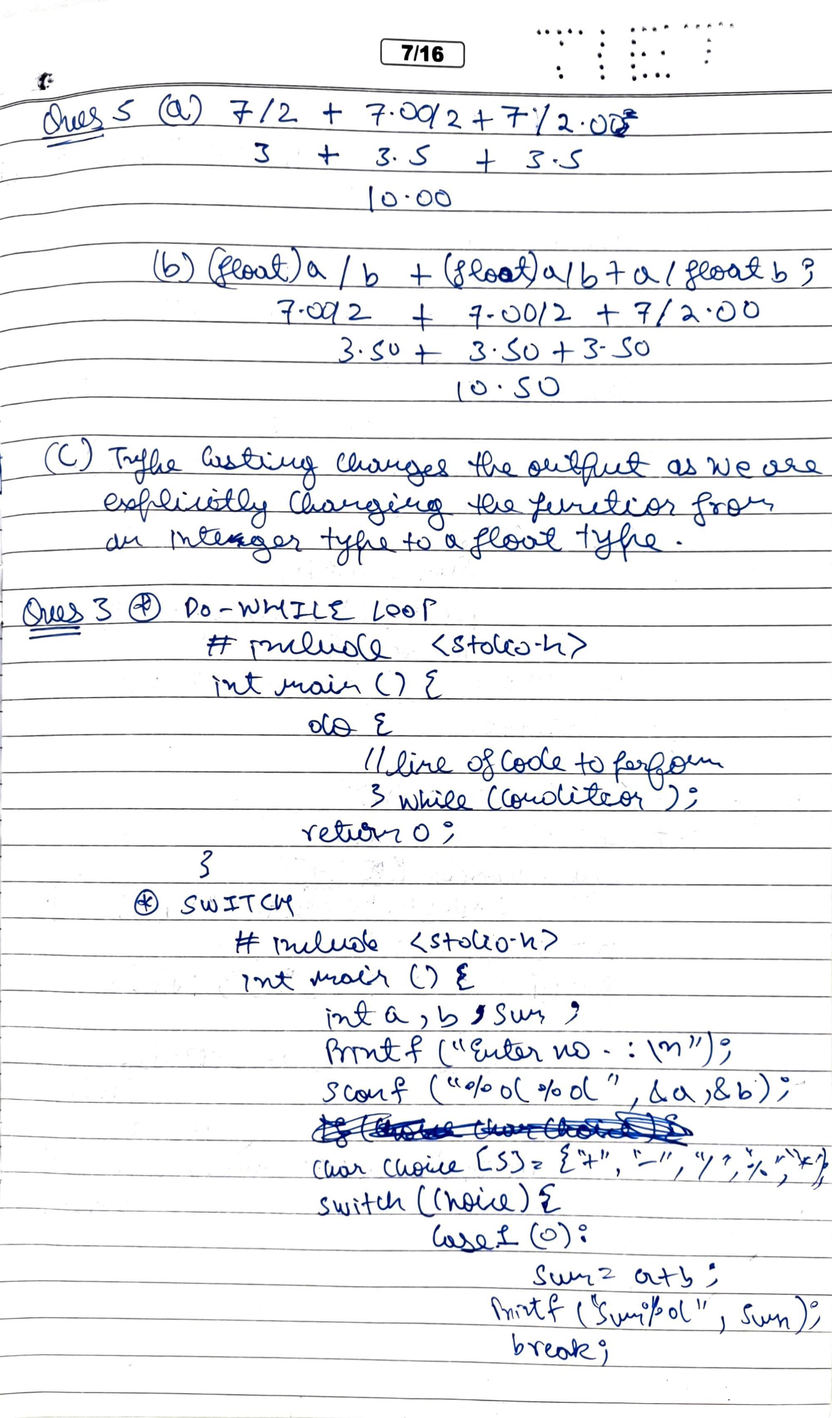cuttings: (308, 1106, 696, 1152), (621, 106, 641, 120)
